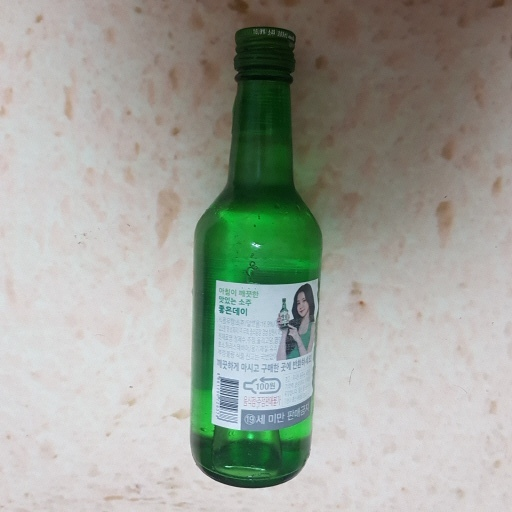Glass_0: (176, 22, 328, 489)
